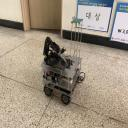cart: (40, 53, 82, 105)
